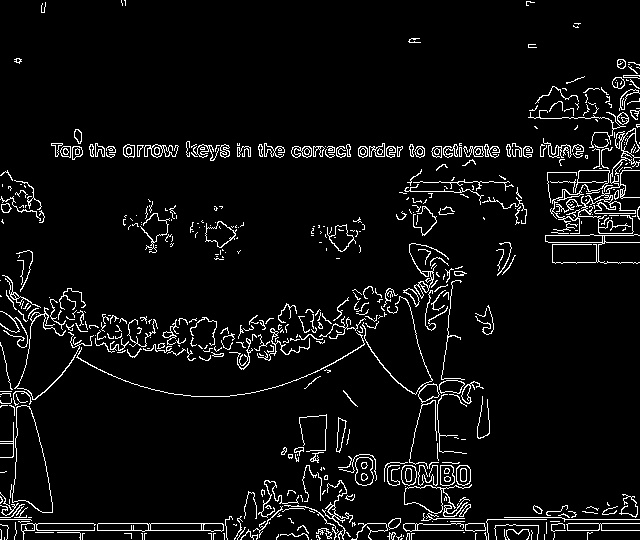down: (323, 217, 364, 256)
left: (135, 208, 174, 250)
right: (198, 215, 244, 257), (403, 200, 445, 243)
